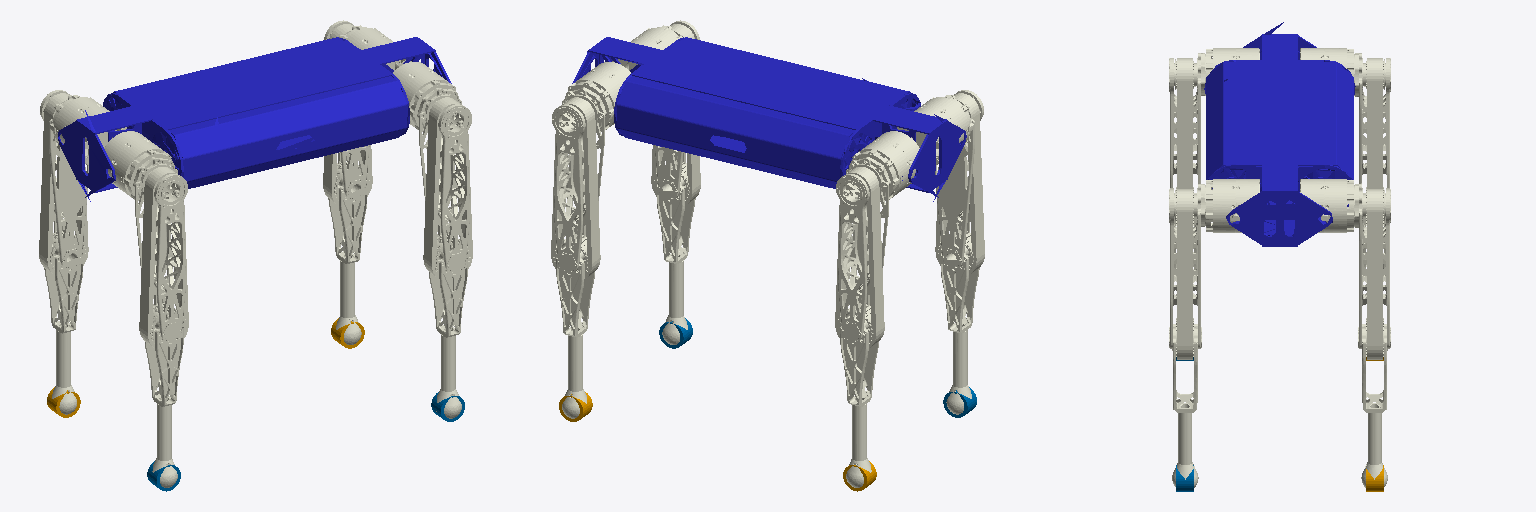
The robot description file, URDF, robot "Hound_description":
<?xml version="1.0" ?>
<!-- =================================================================================== -->
<!-- |    This document was autogenerated by xacro from robot.xacro                    | -->
<!-- |    EDITING THIS FILE BY HAND IS NOT RECOMMENDED                                 | -->
<!-- =================================================================================== -->
<robot name="Hound_description" xmlns:xacro="http://www.ros.org/wiki/xacro">
  <material name="black">
    <color rgba="0.0 0.0 0.0 1.0"/>
  </material>
  <material name="blue">
    <color rgba="0.2 0.2 0.8 1.0"/>
  </material>
  <material name="green">
    <color rgba="0.0 0.8 0.0 1.0"/>
  </material>
  <material name="grey">
    <color rgba="0.2 0.2 0.2 1.0"/>
  </material>
  <material name="silver">
    <color rgba="0.913725490196 0.913725490196 0.847058823529 1.0"/>
  </material>
  <material name="orange">
    <color rgba="1.0 0.423529411765 0.0392156862745 1.0"/>
  </material>
  <material name="brown">
    <color rgba="0.870588235294 0.811764705882 0.764705882353 1.0"/>
  </material>
  <material name="red">
    <color rgba="0.8 0.0 0.0 1.0"/>
  </material>
  <material name="white">
    <color rgba="1.0 1.0 1.0 1.0"/>
  </material>

  <link name="trunk">
    <visual>
      <origin rpy="0 0 0" xyz="0 0 0"/>
      <geometry>
        <mesh filename="base__.dae" scale="1 1 1"/>
      </geometry>
      <material name="blue"/>
    </visual>
    <collision>
      <origin rpy="0 0 0" xyz="0 0 0"/>
      <geometry>
	<!--<box size="0.562 0.335 0.14"/>-->
        <box size="0.562 0.185 0.08"/>
      </geometry>
    </collision>
    <inertial>
      <origin rpy="0 0 0" xyz="0.000717 0.003624 -0.005225"/>
      <mass value="18.75"/>
      <inertia ixx="0.215345" ixy="0.000728" ixz="0.001358" iyy="0.833672" iyz="0.000129" izz="0.984279"/>
    </inertial>
  </link>


  <joint name="RR_roll_joint" type="revolute">
    <origin rpy="0 0 0" xyz="-0.349 -0.100 0.000"/>
    <parent link="trunk"/>
    <child link="RR_shoulder"/>
    <axis xyz="1 0 0"/>
    <!--dynamics rotor_inertia="0.01398664" damping="0" friction="0"/-->
    <limit effort="200" lower="-1.48352986419518" upper="1.48352986419518" velocity="21.29"/>
  </joint>
  <link name="RR_shoulder">
    <visual>
      <origin rpy="0 0 0" xyz="0 0 0"/>
      <geometry>
        <mesh filename="shoulder_mirror__.dae" scale="1 1 1"/>
      </geometry>
      <material name="silver"/>
    </visual>
    <collision>
      <origin rpy="1.57079632679 0 0" xyz="0 -0.0125 0"/>
      <geometry>
        <cylinder length="0.133" radius="0.0605"/>
      </geometry>
    </collision>
    <inertial>
      <origin rpy="0 0 0" xyz="-0.00426027 -0.01325422 0.00000918"/>
      <mass value="4.2947"/>
      <inertia ixx="0.00932019" ixy="-0.00003601" ixz="-0.00000533" iyy="0.00773259" iyz="-0.00001700" izz="0.01043512"/>
    </inertial>
  </link>
  <joint name="RR_hip_joint" type="revolute">
    <origin rpy="0 0 0" xyz="0 -0.1135 0"/>
    <parent link="RR_shoulder"/>
    <child link="RR_thigh"/>
    <axis xyz="0 1 0"/>
    <!--dynamics rotor_inertia="0.05581304" damping="0" friction="0"/-->
    <limit effort="200" lower="-6.28318530718" upper="6.28318530718" velocity="21.29"/>
  </joint>
  <link name="RR_thigh">
    <visual>
      <origin rpy="0 0 0" xyz="0 0 0"/>
      <geometry>
        <mesh filename="thigh_mirror__.dae" scale="1 1 1"/>
      </geometry>
      <material name="silver"/>
    </visual>
    <collision>
      <origin rpy="0 0 0" xyz="0 0 -0.16395"/>
      <geometry>
        <box size="0.078 0.069 0.34"/>
      </geometry>
    </collision>
    <inertial>
      <origin rpy="0 0 0" xyz="0.01353461 0.01879181 -0.09638993"/>
      <mass value="1.6351"/>
      <inertia ixx="0.02365733" ixy="-0.00036775" ixz="-0.00293293" iyy="0.02323490" iyz="0.00261899" izz="0.00318143"/>
    </inertial>
  </link>
  <joint name="RR_knee_joint" type="revolute">
    <origin rpy="0 0 0" xyz="0 0 -0.3279"/>
    <parent link="RR_thigh"/>
    <child link="RR_calf"/>
    <axis xyz="0 1 0"/>
    <!--dynamics rotor_inertia="0.0561" damping="0" friction="0"/-->
    <limit effort="400" lower="-2.7925268" upper="2.7925268" velocity="9.7"/>
  </joint>
  <link name="RR_calf">
    <visual>
      <origin rpy="0 0 0" xyz="0 0 0"/>
      <geometry>
        <mesh filename="calf__.dae" scale="1 1 1"/>
      </geometry>
      <material name="silver"/>
    </visual>
    <collision>
      <origin rpy="0 0 0" xyz="0 0 -0.175"/>
      <geometry>
        <box size="0.032 0.032 0.35"/>
      </geometry>
    </collision>
    <inertial>
      <origin rpy="0 0 0" xyz="0.00000000 -0.00007139 -0.12613433"/>
      <mass value="0.7377"/>
      <inertia ixx="0.01354125" ixy="-0.00000000" ixz="-0.00000058" iyy="0.01354008" iyz="-0.00000573" izz="0.00042390"/>
    </inertial>
  </link>
  <joint name="RR_foot_fixed" type="fixed">
    <origin rpy="0 0 0" xyz="0 0 -0.35"/>
    <parent link="RR_calf"/>
    <child link="RR_foot"/>
  </joint>
  <link name="RR_foot">
    <visual>
      <origin rpy="1.57079632679 0 0" xyz="0 0 0"/>
      <geometry>
        <cylinder length="0.04" radius="0.03"/>
      </geometry>
    </visual>
    <collision>
      <origin rpy="1.57079632679 0 0" xyz="0 0 0"/>
      <geometry>
        <cylinder length="0.04" radius="0.03"/>
      </geometry>
    </collision>
    <inertial>
      <origin rpy="0 0 0" xyz="0.0 -0.0 -0.0"/>
      <mass value="0.01"/>
      <inertia ixx="0.0000001" ixy="0.0" ixz="-0.0" iyy="0.0000001" iyz="-0.0" izz="0.0.0000001"/>
    </inertial>
  </link>

	
  <joint name="RL_roll_joint" type="revolute">
    <origin rpy="0 0 0" xyz="-0.349 0.100 0.000"/>
    <parent link="trunk"/>
    <child link="RL_shoulder"/>
    <axis xyz="1 0 0"/>
    <!--dynamics rotor_inertia="0.01398664" damping="0" friction="0"/-->
    <limit effort="200" lower="-1.48352986419518" upper="1.48352986419518" velocity="21.29"/>
  </joint>
  <link name="RL_shoulder">
    <visual>
      <origin rpy="0 0 0" xyz="0 0 0"/>
      <geometry>
        <mesh filename="shoulder__.dae" scale="1 1 1"/>
      </geometry>
      <material name="silver"/>
    </visual>
    <collision>
      <origin rpy="1.57079632679 0 0" xyz="0 0.0125 0"/>
      <geometry>
        <cylinder length="0.133" radius="0.0605"/>
      </geometry>
    </collision>
    <inertial>
      <origin rpy="0 0 0" xyz="-0.00426027 0.01325422 0.00000918"/>
      <mass value="4.2947"/>
      <inertia ixx="0.00932019" ixy="0.00003601" ixz="-0.00000533" iyy="0.00773259" iyz="0.00001700" izz="0.01043512"/>
    </inertial>
  </link>
  <joint name="RL_hip_joint" type="revolute">
    <origin rpy="0 0 0" xyz="0 0.1135 0"/>
    <parent link="RL_shoulder"/>
    <child link="RL_thigh"/>
    <axis xyz="0 1 0"/>
    <!--dynamics rotor_inertia="0.05581304" damping="0" friction="0"/-->
    <limit effort="200" lower="-6.28318530718" upper="6.28318530718" velocity="21.29"/>
  </joint>
  <link name="RL_thigh">
    <visual>
      <origin rpy="0 0 0" xyz="0 0 0"/>
      <geometry>
        <mesh filename="thigh__.dae" scale="1 1 1"/>
      </geometry>
      <material name="silver"/>
    </visual>
    <collision>
      <origin rpy="0 0 0" xyz="0 0 -0.16395"/>
      <geometry>
        <box size="0.078 0.069 0.34"/>
      </geometry>
    </collision>
    <inertial>
      <origin rpy="0 0 0" xyz="0.01353461 -0.01879181 -0.09638993"/>
      <mass value="1.6351"/>
      <inertia ixx="0.02365733" ixy="0.00036775" ixz="-0.00293293" iyy="0.02323490" iyz="-0.00261899" izz="0.00318143"/>
    </inertial>
  </link>
  <joint name="RL_knee_joint" type="revolute">
    <origin rpy="0 0 0" xyz="0 0 -0.3279"/>
    <parent link="RL_thigh"/>
    <child link="RL_calf"/>
    <axis xyz="0 1 0"/>
    <!--dynamics rotor_inertia="0.0561" damping="0" friction="0"/-->
    <limit effort="400" lower="-2.7925268" upper="2.7925268" velocity="9.7"/>
  </joint>
  <link name="RL_calf">
    <visual>
      <origin rpy="0 0 0" xyz="0 0 0"/>
      <geometry>
        <mesh filename="calf__.dae" scale="1 1 1"/>
      </geometry>
      <material name="silver"/>
    </visual>
    <collision>
      <origin rpy="0 0 0" xyz="0 0 -0.175"/>
      <geometry>
        <box size="0.032 0.032 0.35"/>
      </geometry>
    </collision>
    <inertial>
      <origin rpy="0 0 0" xyz="0.00000000 0.00007139 -0.12613433"/>
      <mass value="0.7377"/>
      <inertia ixx="0.01354125" ixy="0.00000000" ixz="-0.00000058" iyy="0.01354008" iyz="0.00000573" izz="0.00042390"/>
    </inertial>
  </link>
  <joint name="RL_foot_fixed" type="fixed">
    <origin rpy="0 0 0" xyz="0 0 -0.35"/>
    <parent link="RL_calf"/>
    <child link="RL_foot"/>
  </joint>
  <link name="RL_foot">
    <visual>
      <origin rpy="1.57079632679 0 0" xyz="0 0 0"/>
      <geometry>
        <cylinder length="0.04" radius="0.03"/>
      </geometry>
    </visual>
    <collision>
      <origin rpy="1.57079632679 0 0" xyz="0 0 0"/>
      <geometry>
        <cylinder length="0.04" radius="0.03"/>
      </geometry>
    </collision>
    <inertial>
      <origin rpy="0 0 0" xyz="0.0 -0.0 -0.0"/>
      <mass value="0.01"/>
      <inertia ixx="0.0000001" ixy="0.0" ixz="-0.0" iyy="0.0000001" iyz="-0.0" izz="0.0.0000001"/>
    </inertial>
  </link>


  <joint name="FR_roll_joint" type="revolute">
    <origin rpy="0 0 0" xyz="0.349 -0.100 0.000"/>
    <parent link="trunk"/>
    <child link="FR_shoulder"/>
    <axis xyz="1 0 0"/>
    <!--dynamics rotor_inertia="0.01398664" damping="0" friction="0"/-->
    <limit effort="200" lower="-1.48352986419518" upper="1.48352986419518" velocity="21.29"/>
  </joint>
  <link name="FR_shoulder">
    <visual>
      <origin rpy="0 0 0" xyz="0 0 0"/>
      <geometry>
        <mesh filename="shoulder_mirror__.dae" scale="1 1 1"/>
      </geometry>
      <material name="silver"/>
    </visual>
    <collision>
      <origin rpy="1.57079632679 0 0" xyz="0 -0.0125 0"/>
      <geometry>
        <cylinder length="0.133" radius="0.0605"/>
      </geometry>
    </collision>
    <inertial>
      <origin rpy="0 0 0" xyz="-0.00426027 -0.01325422 0.00000918"/>
      <mass value="4.2947"/>
      <inertia ixx="0.00932019" ixy="-0.00003601" ixz="-0.00000533" iyy="0.00773259" iyz="-0.00001700" izz="0.01043512"/>
    </inertial>
  </link>
  <joint name="FR_hip_joint" type="revolute">
    <origin rpy="0 0 0" xyz="0 -0.1135 0"/>
    <parent link="FR_shoulder"/>
    <child link="FR_thigh"/>
    <axis xyz="0 1 0"/>
    <!--dynamics rotor_inertia="0.05581304" damping="0" friction="0"/-->
    <limit effort="200" lower="-6.28318530718" upper="6.28318530718" velocity="21.29"/>
  </joint>
  <link name="FR_thigh">
    <visual>
      <origin rpy="0 0 0" xyz="0 0 0"/>
      <geometry>
        <mesh filename="thigh_mirror__.dae" scale="1 1 1"/>
      </geometry>
      <material name="silver"/>
    </visual>
    <collision>
      <origin rpy="0 0 0" xyz="0 0 -0.16395"/>
      <geometry>
        <box size="0.078 0.069 0.34"/>
      </geometry>
    </collision>
    <inertial>
      <origin rpy="0 0 0" xyz="0.01353461 0.01879181 -0.09638993"/>
      <mass value="1.6351"/>
      <inertia ixx="0.02365733" ixy="-0.00036775" ixz="-0.00293293" iyy="0.02323490" iyz="0.00261899" izz="0.00318143"/>
    </inertial>
  </link>
  <joint name="FR_knee_joint" type="revolute">
    <origin rpy="0 0 0" xyz="0 0 -0.3279"/>
    <parent link="FR_thigh"/>
    <child link="FR_calf"/>
    <axis xyz="0 1 0"/>
    <!--dynamics rotor_inertia="0.0561" damping="0" friction="0"/-->
    <limit effort="400" lower="-2.7925268" upper="2.7925268" velocity="9.7"/>
  </joint>
  <link name="FR_calf">
    <visual>
      <origin rpy="0 0 0" xyz="0 0 0"/>
      <geometry>
        <mesh filename="calf__.dae" scale="1 1 1"/>
      </geometry>
      <material name="silver"/>
    </visual>
    <collision>
      <origin rpy="0 0 0" xyz="0 0 -0.175"/>
      <geometry>
        <box size="0.032 0.032 0.35"/>
      </geometry>
    </collision>
    <inertial>
      <origin rpy="0 0 0" xyz="0.00000000 -0.00007139 -0.12613433"/>
      <mass value="0.7377"/>
      <inertia ixx="0.01354125" ixy="-0.00000000" ixz="-0.00000058" iyy="0.01354008" iyz="-0.00000573" izz="0.00042390"/>
    </inertial>
  </link>
  <joint name="FR_foot_fixed" type="fixed">
    <origin rpy="0 0 0" xyz="0 0 -0.35"/>
    <parent link="FR_calf"/>
    <child link="FR_foot"/>
  </joint>
  <link name="FR_foot">
    <visual>
      <origin rpy="1.57079632679 0 0" xyz="0 0 0"/>
      <geometry>
        <cylinder length="0.04" radius="0.03"/>
      </geometry>
    </visual>
    <collision>
      <origin rpy="1.57079632679 0 0" xyz="0 0 0"/>
      <geometry>
        <cylinder length="0.04" radius="0.03"/>
      </geometry>
    </collision>
    <inertial>
      <origin rpy="0 0 0" xyz="0.0 -0.0 -0.0"/>
      <mass value="0.01"/>
      <inertia ixx="0.0000001" ixy="0.0" ixz="-0.0" iyy="0.0000001" iyz="-0.0" izz="0.0.0000001"/>
    </inertial>
  </link>


  <joint name="FL_roll_joint" type="revolute">
    <origin rpy="0 0 0" xyz="0.349 0.100 0.000"/>
    <parent link="trunk"/>
    <child link="FL_shoulder"/>
    <axis xyz="1 0 0"/>
    <!--dynamics rotor_inertia="0.01398664" damping="0" friction="0"/-->
    <limit effort="200" lower="-1.48352986419518" upper="1.48352986419518" velocity="21.29"/>
  </joint>
  <link name="FL_shoulder">
    <visual>
      <origin rpy="0 0 0" xyz="0 0 0"/>
      <geometry>
        <mesh filename="shoulder__.dae" scale="1 1 1"/>
      </geometry>
      <material name="silver"/>
    </visual>
    <collision>
      <origin rpy="1.57079632679 0 0" xyz="0 0.0125 0"/>
      <geometry>
        <cylinder length="0.133" radius="0.0605"/>
      </geometry>
    </collision>
    <inertial>
      <origin rpy="0 0 0" xyz="-0.00426027 0.01325422 0.00000918"/>
      <mass value="4.2947"/>
      <inertia ixx="0.00932019" ixy="0.00003601" ixz="-0.00000533" iyy="0.00773259" iyz="0.00001700" izz="0.01043512"/>
    </inertial>
  </link>
  <joint name="FL_hip_joint" type="revolute">
    <origin rpy="0 0 0" xyz="0 0.1135 0"/>
    <parent link="FL_shoulder"/>
    <child link="FL_thigh"/>
    <axis xyz="0 1 0"/>
    <!--dynamics rotor_inertia="0.05581304" damping="0" friction="0"/-->
    <limit effort="200" lower="-6.28318530718" upper="6.28318530718" velocity="21.29"/>
  </joint>
  <link name="FL_thigh">
    <visual>
      <origin rpy="0 0 0" xyz="0 0 0"/>
      <geometry>
        <mesh filename="thigh__.dae" scale="1 1 1"/>
      </geometry>
      <material name="silver"/>
    </visual>
    <collision>
      <origin rpy="0 0 0" xyz="0 0 -0.16395"/>
      <geometry>
        <box size="0.078 0.069 0.34"/>
      </geometry>
    </collision>
    <inertial>
      <origin rpy="0 0 0" xyz="0.01353461 -0.01879181 -0.09638993"/>
      <mass value="1.6351"/>
      <inertia ixx="0.02365733" ixy="0.00036775" ixz="-0.00293293" iyy="0.02323490" iyz="-0.00261899" izz="0.00318143"/>
    </inertial>
  </link>
  <joint name="FL_knee_joint" type="revolute">
    <origin rpy="0 0 0" xyz="0 0 -0.3279"/>
    <parent link="FL_thigh"/>
    <child link="FL_calf"/>
    <axis xyz="0 1 0"/>
    <!--dynamics rotor_inertia="0.0561" damping="0" friction="0"/-->
    <limit effort="400" lower="-2.7925268" upper="2.7925268" velocity="9.7"/>
  </joint>
  <link name="FL_calf">
    <visual>
      <origin rpy="0 0 0" xyz="0 0 0"/>
      <geometry>
        <mesh filename="calf__.dae" scale="1 1 1"/>
      </geometry>
      <material name="silver"/>
    </visual>
    <collision>
      <origin rpy="0 0 0" xyz="0 0 -0.175"/>
      <geometry>
        <box size="0.032 0.032 0.35"/>
      </geometry>
    </collision>
    <inertial>
      <origin rpy="0 0 0" xyz="0.00000000 0.00007139 -0.12613433"/>
      <mass value="0.7377"/>
      <inertia ixx="0.01354125" ixy="0.00000000" ixz="-0.00000058" iyy="0.01354008" iyz="0.00000573" izz="0.00042390"/>
    </inertial>
  </link>
  <joint name="FL_foot_fixed" type="fixed">
    <origin rpy="0 0 0" xyz="0 0 -0.35"/>
    <parent link="FL_calf"/>
    <child link="FL_foot"/>
  </joint>
  <link name="FL_foot">
    <visual>
      <origin rpy="1.57079632679 0 0" xyz="0 0 0"/>
      <geometry>
        <cylinder length="0.04" radius="0.03"/>
      </geometry>
    </visual>
    <collision>
      <origin rpy="1.57079632679 0 0" xyz="0 0 0"/>
      <geometry>
        <cylinder length="0.04" radius="0.03"/>
      </geometry>
    </collision>
    <inertial>
      <origin rpy="0 0 0" xyz="0.0 -0.0 -0.0"/>
      <mass value="0.01"/>
      <inertia ixx="0.0000001" ixy="0.0" ixz="-0.0" iyy="0.0000001" iyz="-0.0" izz="0.0.0000001"/>
    </inertial>
  </link>


</robot>

--- What the picture shows (computed from the rendered views, not written in the file) ---
The picture shows the robot from 3 angles, left to right: view 1: azimuth 30°, elevation 25°; view 2: azimuth 150°, elevation 25°; view 3: azimuth 270°, elevation 25°; orthographic projection.
Model Hound_description with 17 links and 16 joints (12 revolute, 4 fixed), rooted at trunk, posed every joint at zero.
Links seen in each view (by area): view 1: trunk, FR_thigh, RR_thigh, RL_thigh, FR_calf, RR_calf, RL_calf, FL_calf, FL_thigh, RR_shoulder, FR_shoulder, RL_shoulder (+1 smaller); view 2: trunk, FL_thigh, RL_thigh, RR_thigh, FL_calf, RL_calf, RR_calf, FR_calf, RL_shoulder, FR_thigh, FL_shoulder, RR_shoulder (+1 smaller); view 3: trunk, FL_thigh, FR_thigh, RL_thigh, RR_thigh, FR_shoulder, FL_shoulder, FR_calf, FL_calf, RL_shoulder, RR_shoulder.
Link boxes in pixels (x1,y1,x2,y2): trunk: (58,37,451,201); FR_thigh: (419,88,472,278); RR_thigh: (135,158,188,347); RL_thigh: (39,90,88,274); FR_calf: (429,234,470,418); RR_calf: (145,303,186,487); RL_calf: (44,230,85,414); FL_calf: (328,161,369,344); FL_thigh: (323,20,372,205); RR_shoulder: (104,131,177,201); FR_shoulder: (393,62,461,132); RL_shoulder: (50,95,126,165); trunk: (572,37,966,201); FL_thigh: (551,88,604,278); RL_thigh: (835,158,888,347); RR_thigh: (935,90,984,274); FL_calf: (553,234,594,418); RL_calf: (837,303,878,487); RR_calf: (938,230,979,414); FR_calf: (654,160,695,344); RL_shoulder: (846,131,919,201); FR_thigh: (651,20,700,205); FL_shoulder: (562,62,630,132); RR_shoulder: (897,95,973,164); trunk: (1204,22,1355,246); FL_thigh: (1358,183,1390,359); FR_thigh: (1169,184,1201,359); RL_thigh: (1359,53,1390,188); RR_thigh: (1169,53,1200,188); FR_shoulder: (1201,179,1259,232); FL_shoulder: (1300,179,1358,232); FR_calf: (1172,318,1198,487); FL_calf: (1361,318,1387,487); RL_shoulder: (1300,48,1358,96); RR_shoulder: (1201,48,1259,95).
Size in the robot's own frame: 0.838 by 0.5 by 0.8136 metres.
Meshes: 6 distinct files referenced, 13 mesh visuals loaded (6 Collada DAE).